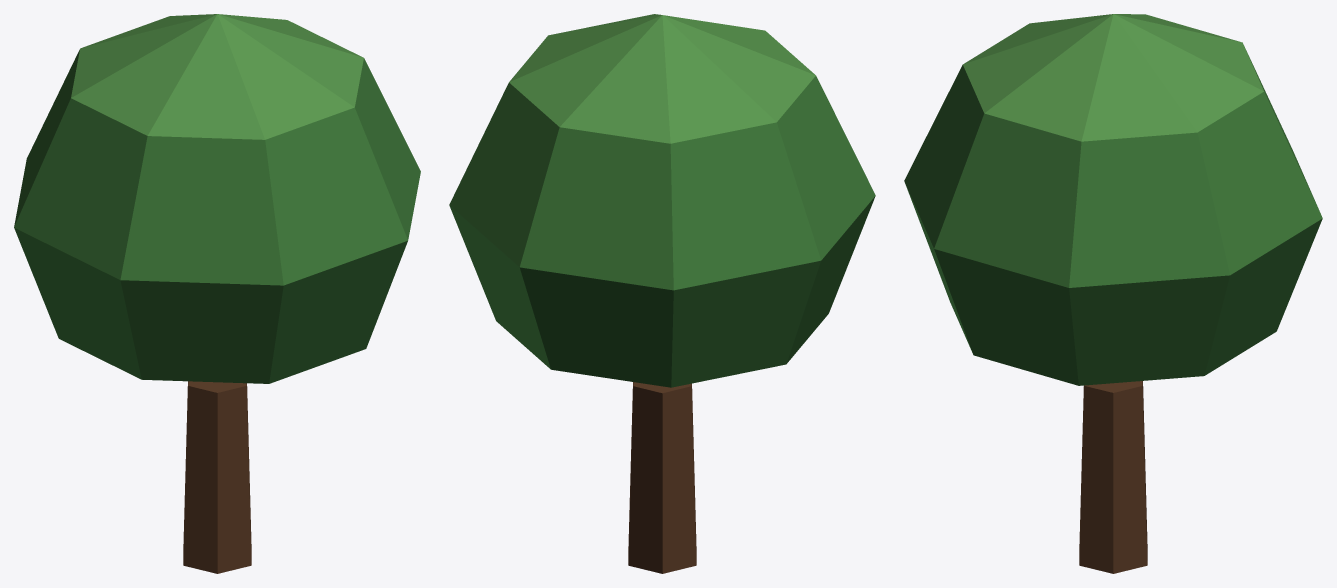
The model's file is tree_fat_darkh.glb.
The picture shows the model from 3 angles, left to right: view 1: azimuth 30°, elevation 25°; view 2: azimuth 150°, elevation 25°; view 3: azimuth 270°, elevation 25°; orthographic projection.
Visible parts, largest first — view 1: tree_fat_darkh; view 2: tree_fat_darkh; view 3: tree_fat_darkh.
Boxes of the visible parts, box(x1,y1,x2,y2) form: tree_fat_darkh: box(14, 14, 420, 573); tree_fat_darkh: box(449, 14, 875, 573); tree_fat_darkh: box(904, 14, 1322, 573).
Size of the model in its own units: 0.7435 by 1.06 by 0.7435.
Materials: 1 (1 with a texture image).
